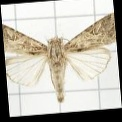Spodoptera litura: (5, 16, 117, 103)
